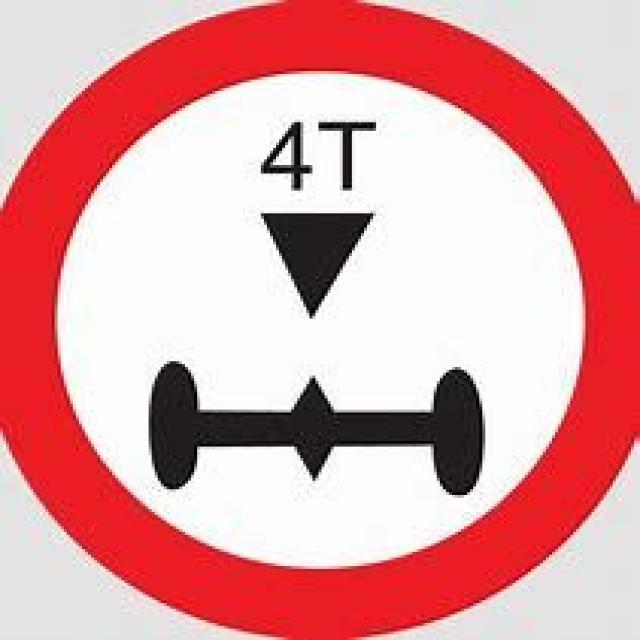axle load limit: (13, 17, 624, 621)
